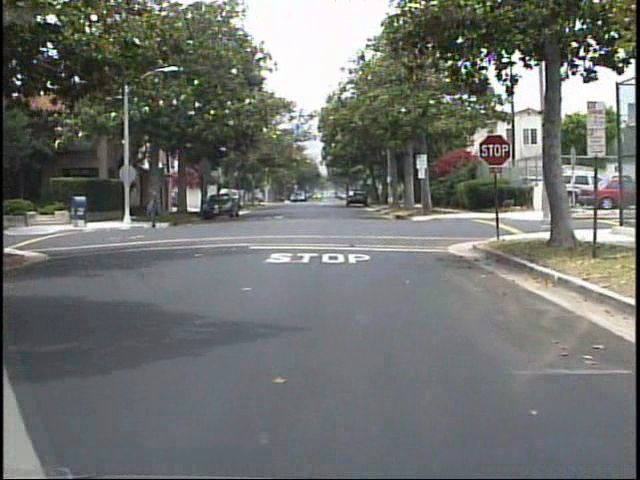person: (142, 180, 167, 233)
